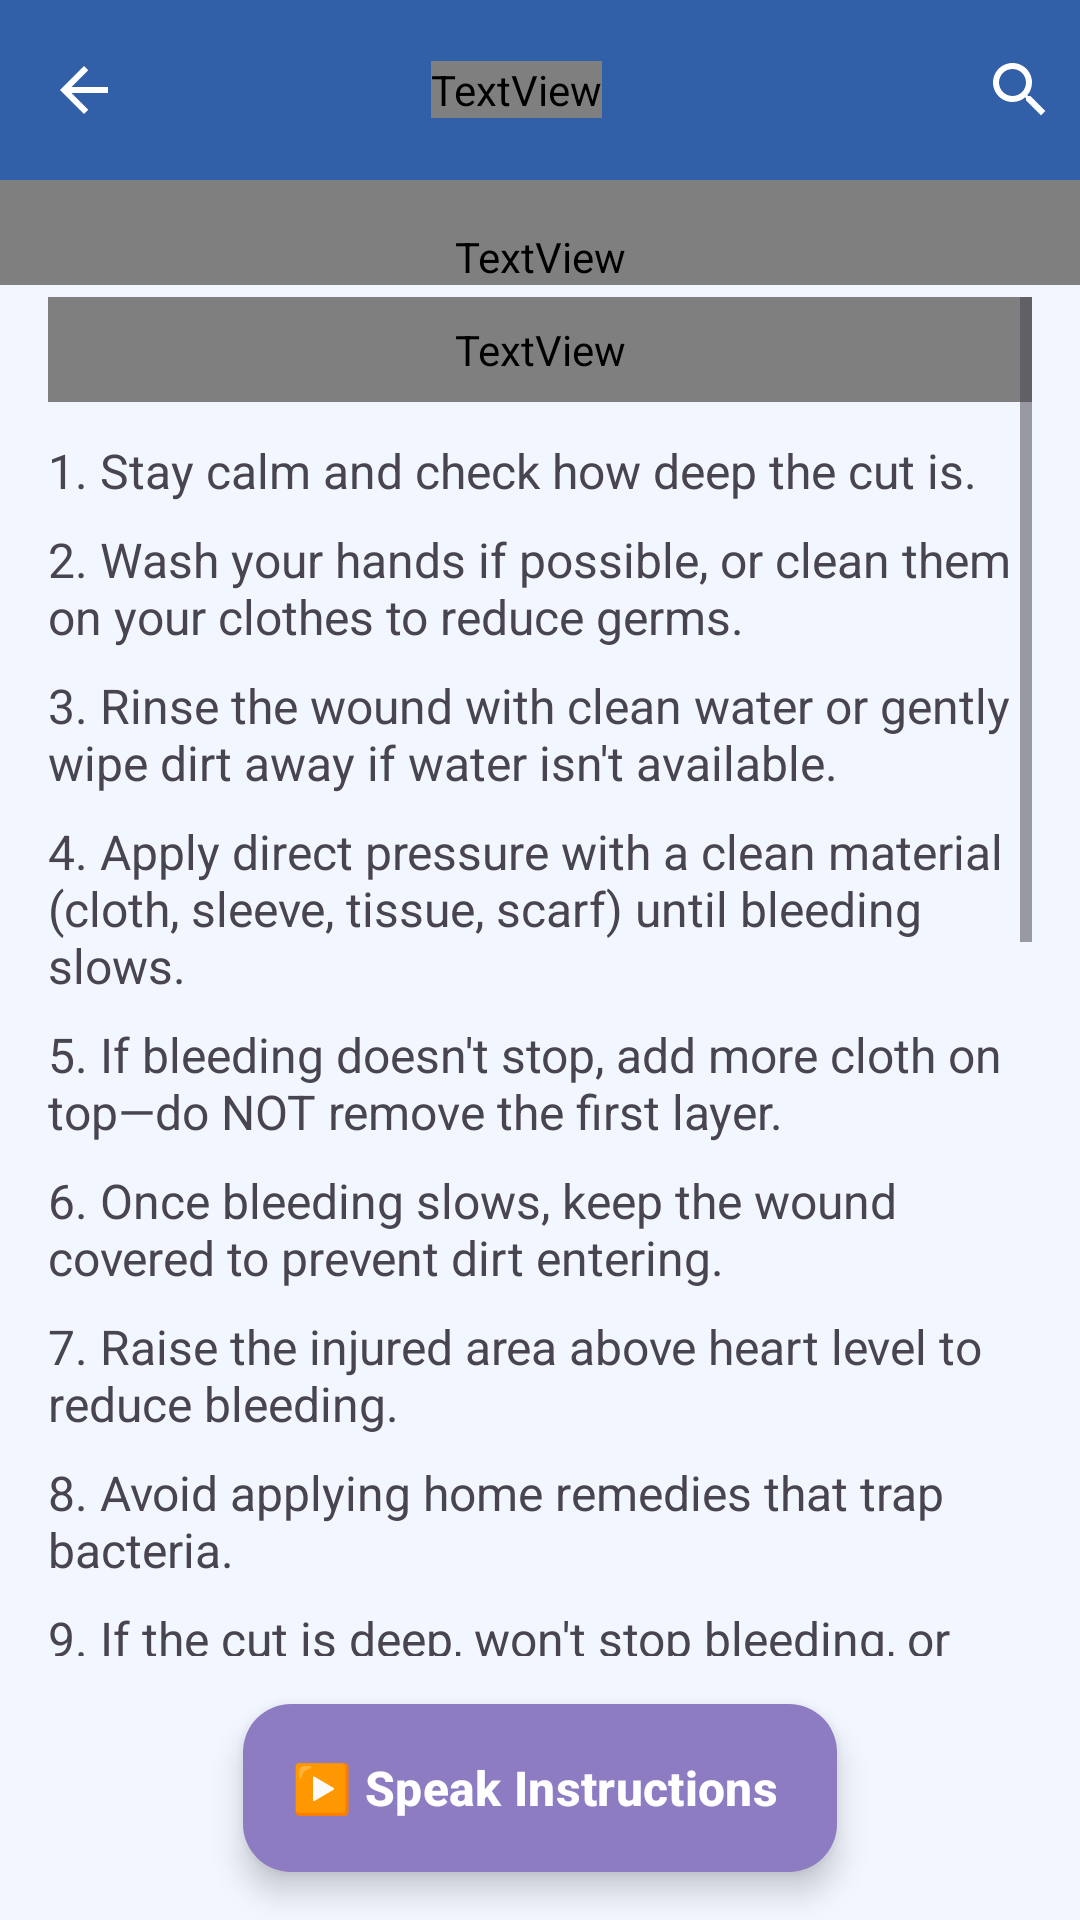

Named icons in this screenshot (1080*1920) and their centers, point (x, y):
Back: point (84, 90)
Toggle Search: point (1019, 89)
